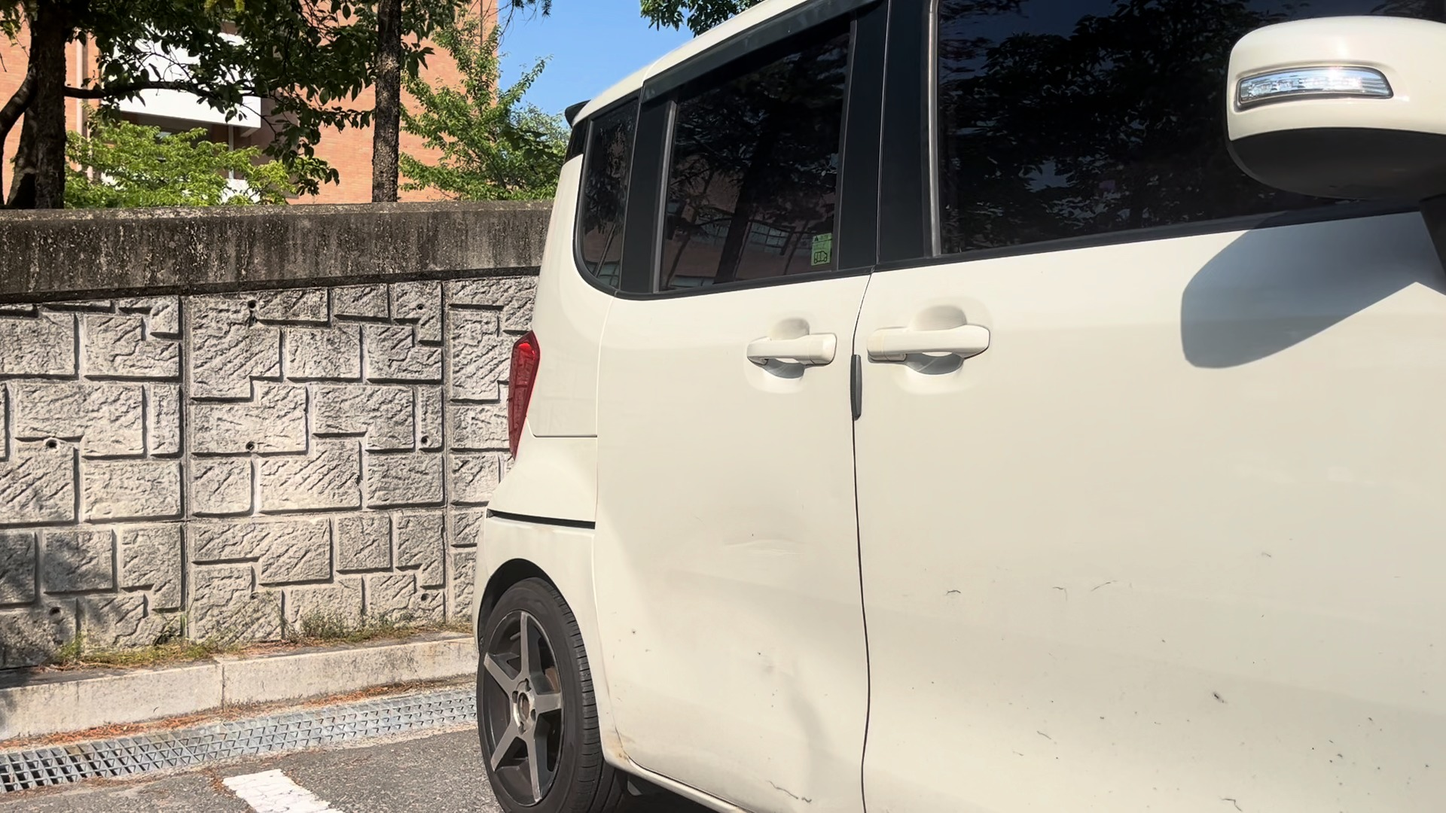door_handle: (868, 318, 1004, 352), (745, 340, 837, 355)
tail_light: (505, 333, 539, 461)
